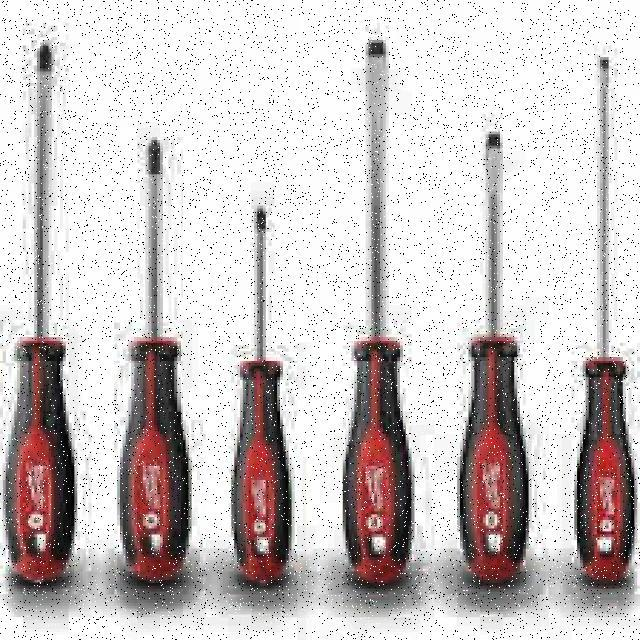screwdriver: (340, 41, 412, 583), (5, 40, 71, 585), (456, 131, 532, 583), (120, 141, 194, 583), (572, 56, 634, 581), (233, 208, 294, 584)
